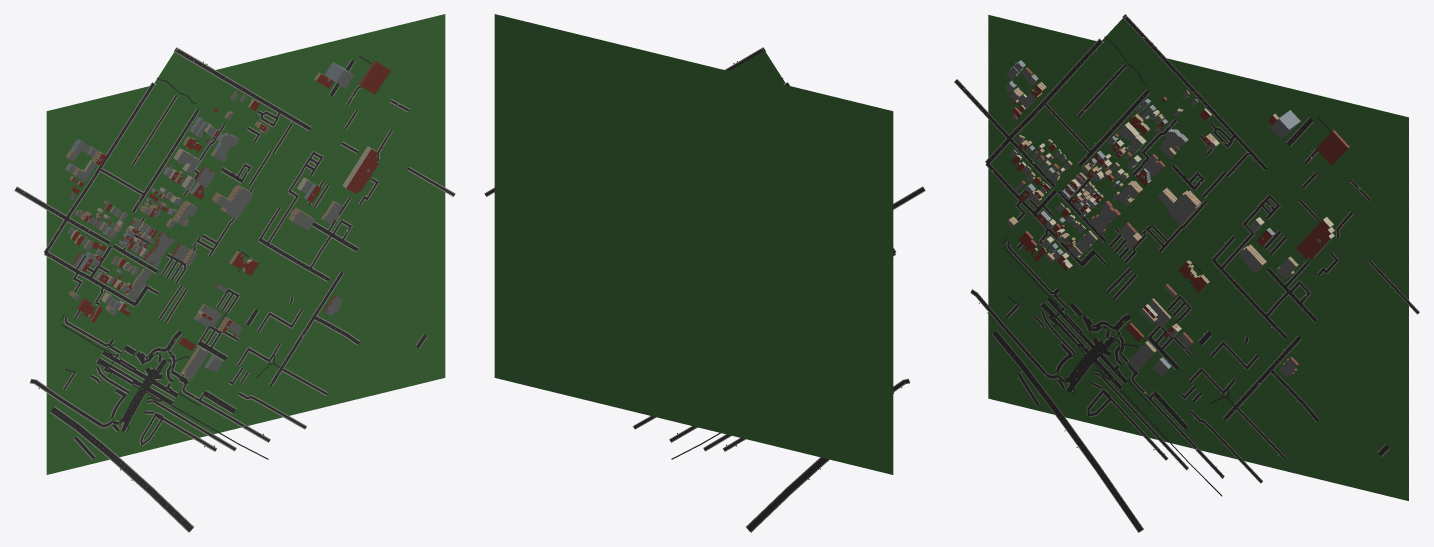
The model's file is realistic_town_wgs84_map.obj.
3 views of the same model, side by side, from view 1: azimuth 30°, elevation 25°; view 2: azimuth 150°, elevation 25°; view 3: azimuth 330°, elevation 25° (orthographic). The views are drawn at different scales.
Visible parts, largest first — view 1: ground, roads, sidewalks, park_231819027, park_39107231, building_35772274, park_1462700642, building_38915269, building_19852386, park_34992685; view 2: ground, roads, sidewalks, park_231819027; view 3: ground, roads, sidewalks, park_231819027, park_39107231, park_1462700642, building_38915269, building_35772274, building_19852386, park_34992685.
Boxes of the visible parts, x1=… form: ground: x1=46, y1=14, x2=445, y2=474; roads: x1=15, y1=48, x2=454, y2=531; sidewalks: x1=14, y1=47, x2=455, y2=532; park_231819027: x1=154, y1=51, x2=217, y2=108; park_39107231: x1=395, y1=245, x2=444, y2=317; building_35772274: x1=342, y1=146, x2=378, y2=193; park_1462700642: x1=274, y1=263, x2=317, y2=303; building_38915269: x1=211, y1=184, x2=253, y2=219; building_19852386: x1=359, y1=60, x2=390, y2=94; park_34992685: x1=182, y1=209, x2=214, y2=242; ground: x1=494, y1=14, x2=893, y2=474; roads: x1=485, y1=48, x2=924, y2=531; sidewalks: x1=484, y1=47, x2=925, y2=532; park_231819027: x1=729, y1=50, x2=785, y2=84; ground: x1=988, y1=15, x2=1408, y2=500; roads: x1=955, y1=15, x2=1418, y2=532; sidewalks: x1=954, y1=14, x2=1419, y2=532; park_231819027: x1=1102, y1=18, x2=1168, y2=90; park_39107231: x1=1356, y1=351, x2=1408, y2=417; park_1462700642: x1=1229, y1=301, x2=1274, y2=350; building_38915269: x1=1157, y1=187, x2=1201, y2=224; building_35772274: x1=1296, y1=217, x2=1334, y2=259; building_19852386: x1=1316, y1=130, x2=1349, y2=165; park_34992685: x1=1131, y1=196, x2=1165, y2=228.
Size of the model in its own units: 1084 by 1147 by 47.33.
23 materials, 12 textured.
